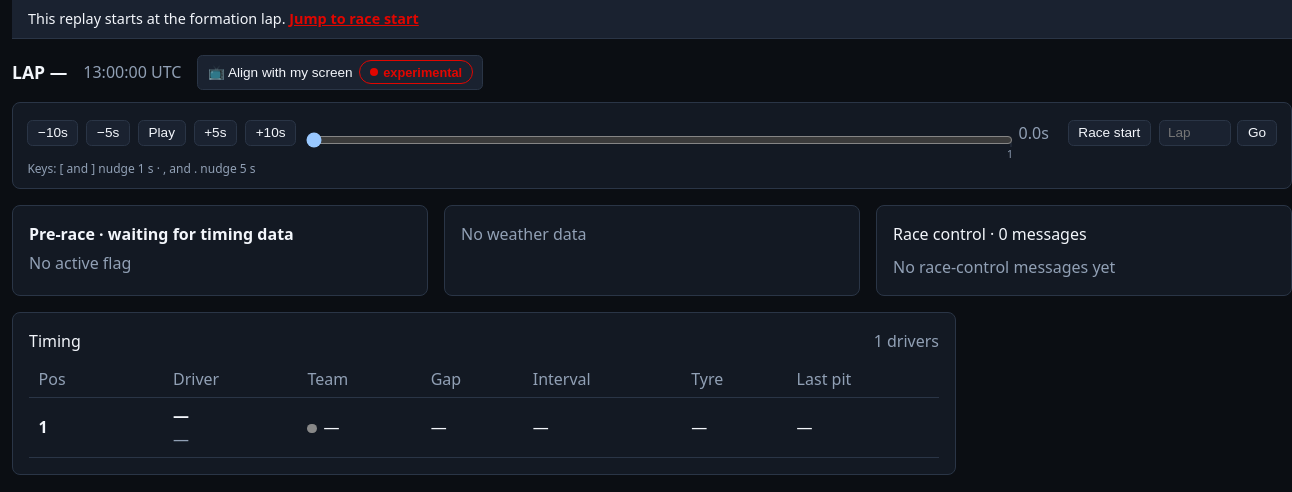
Test: ReplayPage -- start notice › clicking the notice's link jumps to the lights-out anchor and hides the notice
Click the button "Jump to race start" at [354, 19], box x1=289 y1=8 x2=419 y2=30
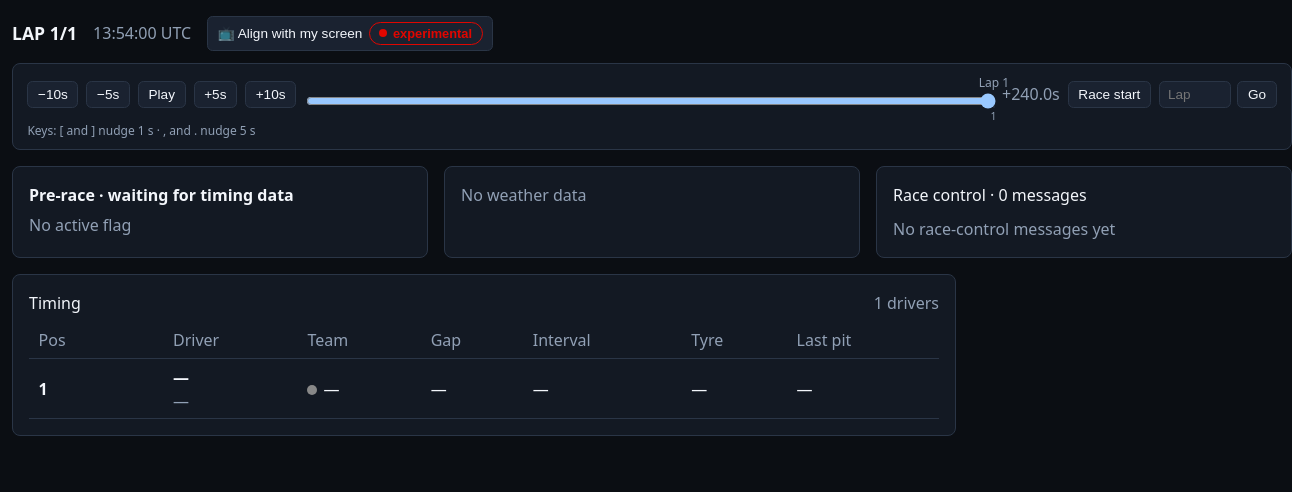
Expected: the text "This replay starts" is gone
